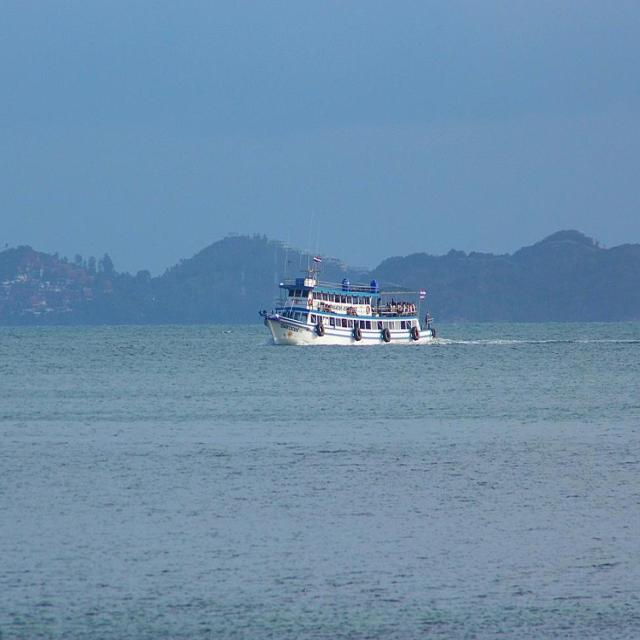fishing boat: (255, 262, 438, 353)
